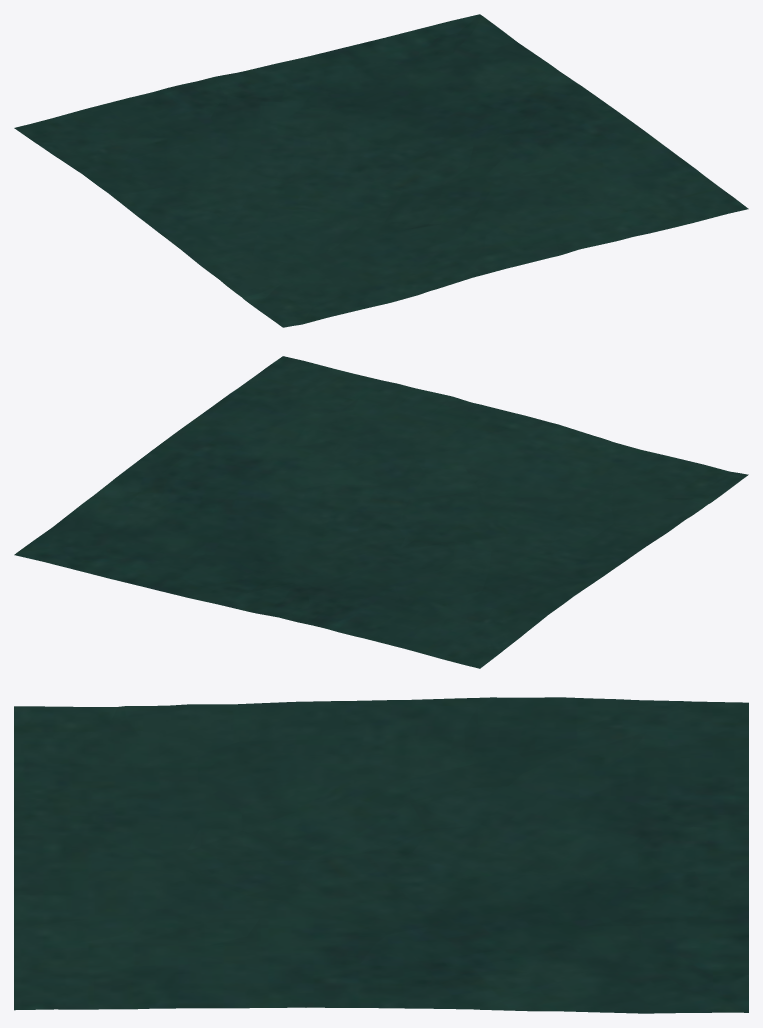
3 renders of one model, top to bottom at view 1: azimuth 30°, elevation 25°; view 2: azimuth 150°, elevation 25°; view 3: azimuth 270°, elevation 25°, orthographic. The views are drawn at different scales.
Bounding box in the file's own units: 52.22 × 1.03 × 52.22.
2 materials, 2 textured.
